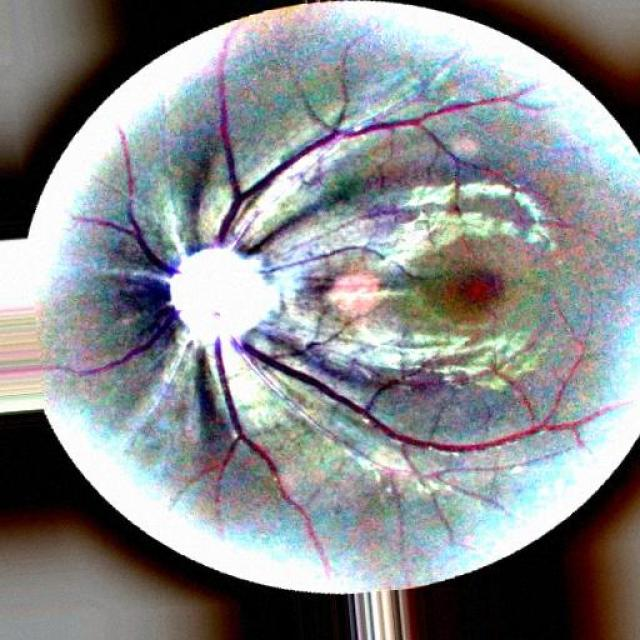Macula: (440, 218, 531, 324)
Nerves: (240, 317, 594, 501), (211, 57, 519, 257), (207, 326, 324, 562)
Optic Disk: (154, 236, 278, 348)
